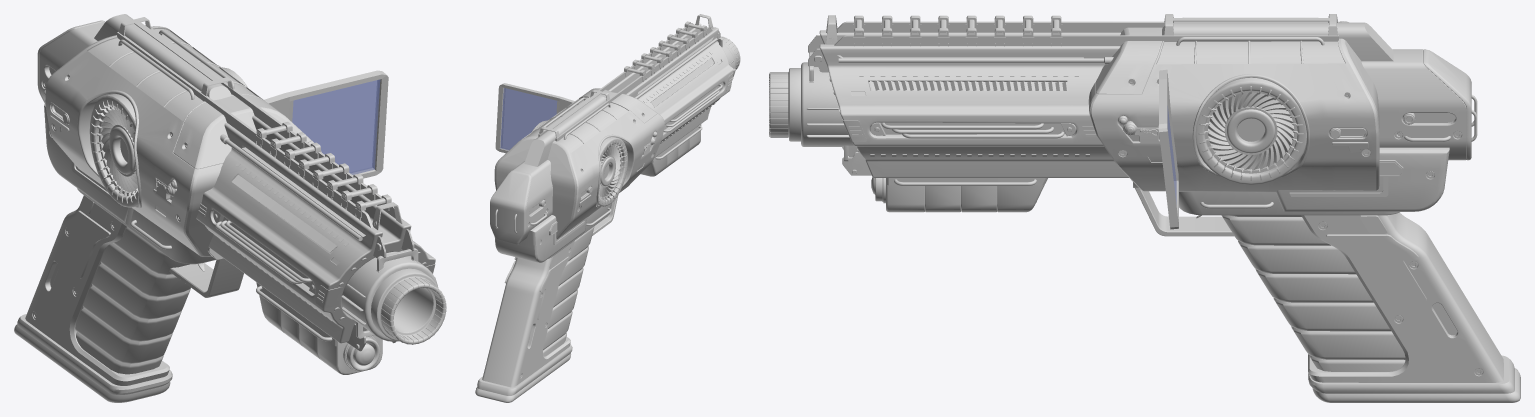
File: GunV03.fbx
3 renders of one model, left to right at view 1: azimuth 30°, elevation 25°; view 2: azimuth 150°, elevation 25°; view 3: azimuth 270°, elevation 25°, orthographic. The views are drawn at different scales.
Parts seen in each view (by area): view 1: Gun, Gun.001; view 2: Gun, Gun.001; view 3: Gun, Gun.001.
Boxes of the visible parts, box(x1,y1,x2,y2) form: Gun: box(14, 14, 446, 402); Gun.001: box(264, 70, 388, 178); Gun: box(475, 14, 740, 402); Gun.001: box(495, 83, 574, 153); Gun: box(769, 14, 1520, 402); Gun.001: box(1158, 69, 1178, 229).
Size of the model in its own units: 485 by 732 by 1346.
